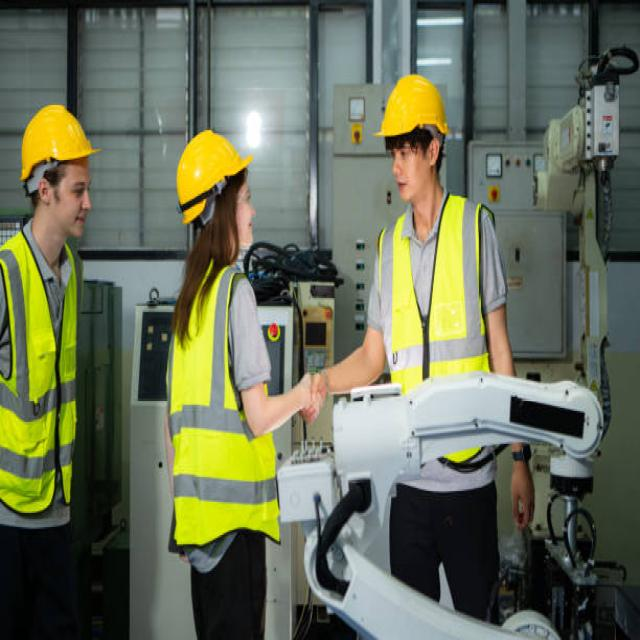Robotic-arm: (304, 379, 608, 640)
